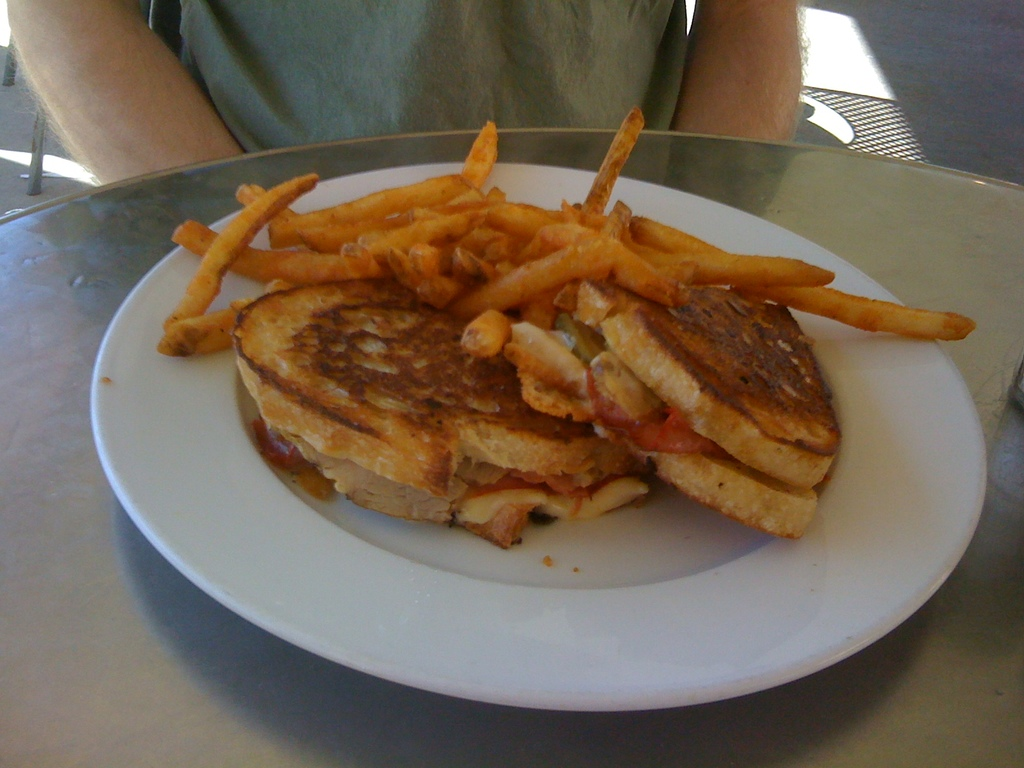French fries: (259, 158, 819, 549)
